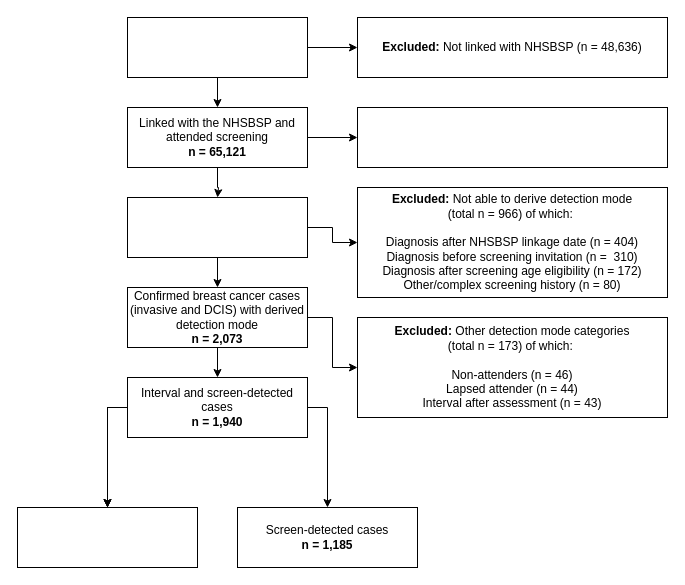
Some shapes in this 685 by 585 pixel diagram are drawn without their labels. Each missing label, with the box of its shape:
Confirmed breast cancer cases (invasive and DCIS) n = 3,039: (126, 196, 308, 258)
Excluded: No cancer or other cancer sites ( n = 62,082): (356, 106, 668, 168)
GS participants with valid data n = 113,757: (126, 16, 308, 78)
Interval cases n = 755: (16, 506, 198, 568)
